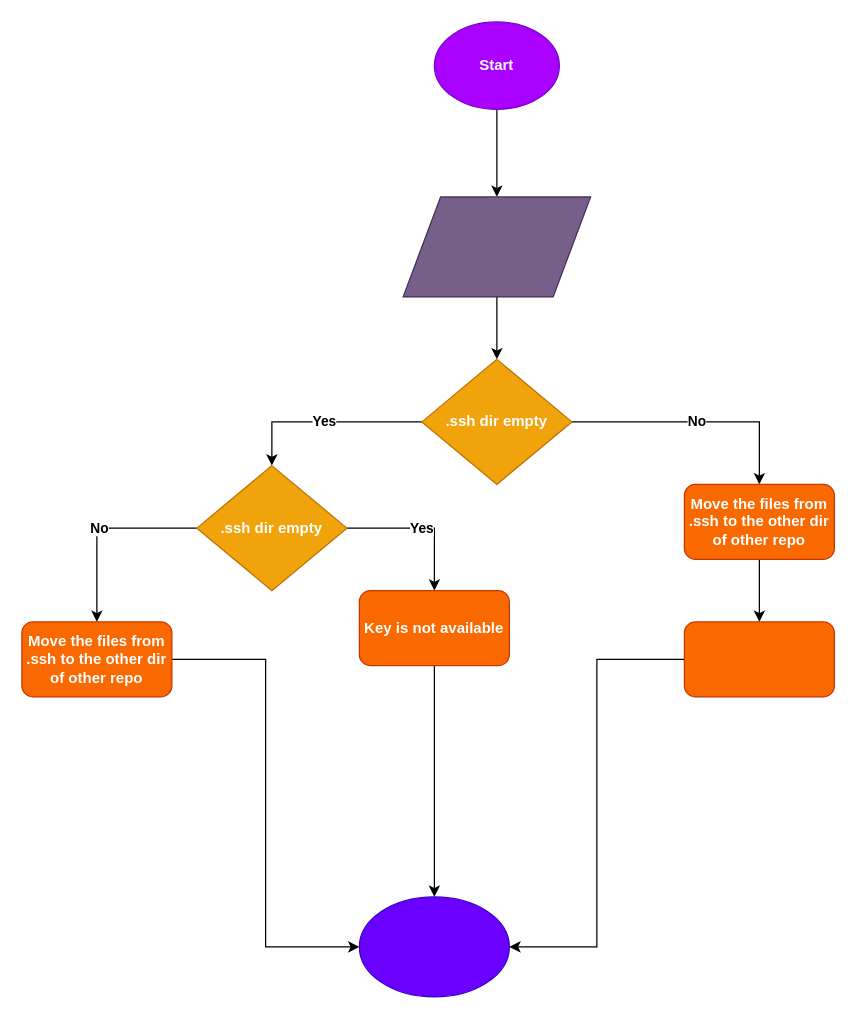
The diagram is 856 pixels wide and 1019 high, and some of its shapes have lost their labels. Here are the shapes that lost their labels. From the top down, the centre of each, then its label:
the point at 496,246: Input repo name to switch to
the point at 758,659: Move the key from the dir of the desired repo to the .ssh
the point at 433,946: Done!
